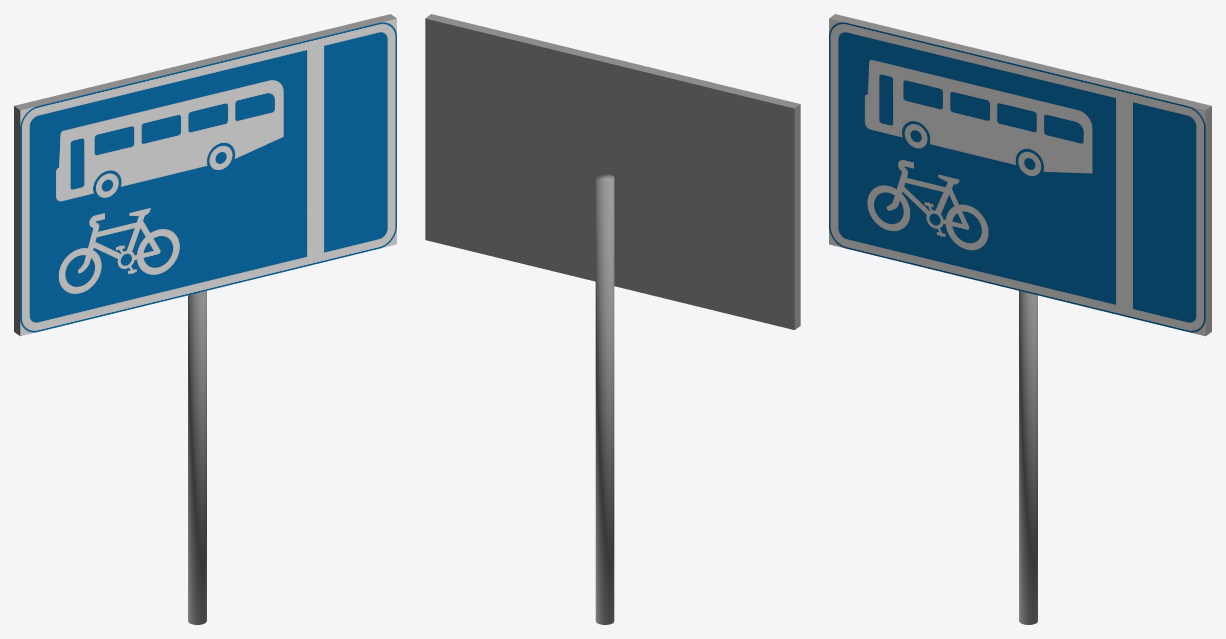
The model's file is bus_flow_sign.dae.
3 renders of one model, left to right at view 1: azimuth 30°, elevation 25°; view 2: azimuth 150°, elevation 25°; view 3: azimuth 330°, elevation 25°, orthographic.
Visible parts, largest first — view 1: with-flow-bus-cycle-lane; view 2: with-flow-bus-cycle-lane; view 3: with-flow-bus-cycle-lane.
Boxes of the visible parts, x1,y1,x2,y2 form: with-flow-bus-cycle-lane: (14, 14, 396, 624); with-flow-bus-cycle-lane: (425, 14, 800, 624); with-flow-bus-cycle-lane: (829, 14, 1211, 624).
Size of the model in its own units: 1.75 by 0.128 by 2.5.
